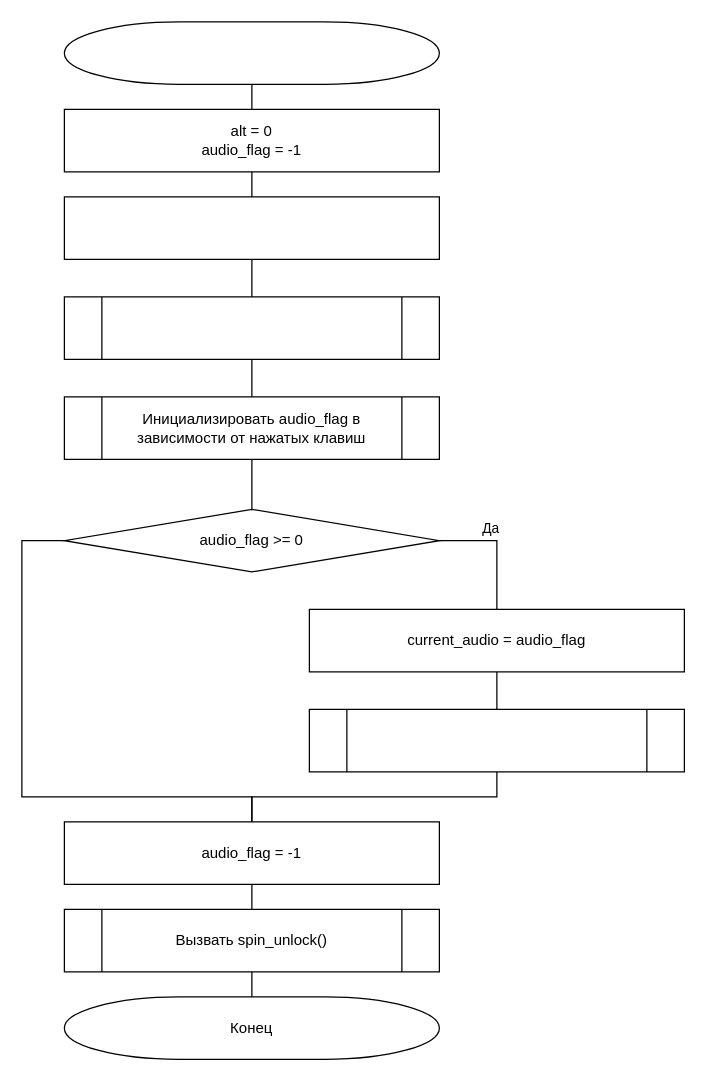
Some shapes in this 706 by 1081 pixel diagram are drawn without their labels. Here are the shapes that lost their labels. From the top down, the centre of each, then its label:
At point 251,52: "Начало".
At point 251,227: "Прочитать код с порта 0x60".
At point 251,327: "Вызвать spin_lock()".
At point 496,740: "Вызвать audio_level_change(current_audio)".
